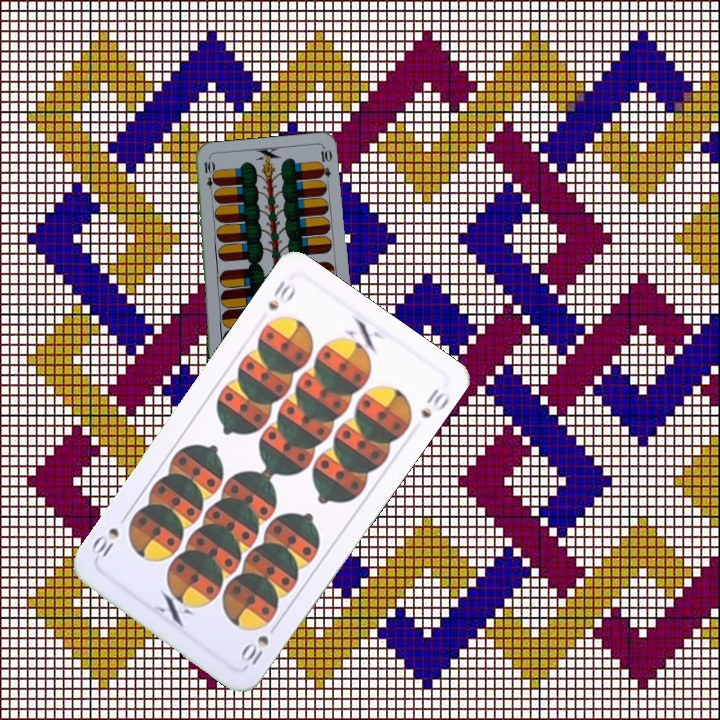E10: (200, 157, 217, 197)
S10: (236, 619, 281, 670), (263, 276, 299, 313)
